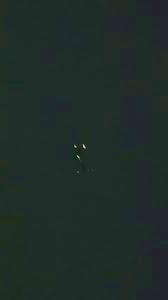Plane: (62, 128, 102, 193)
